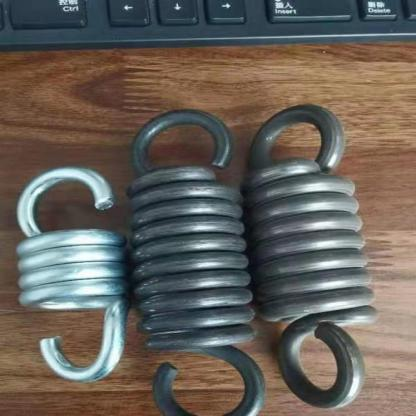FOD: (126, 102, 264, 416), (246, 103, 380, 413), (13, 166, 130, 387)
